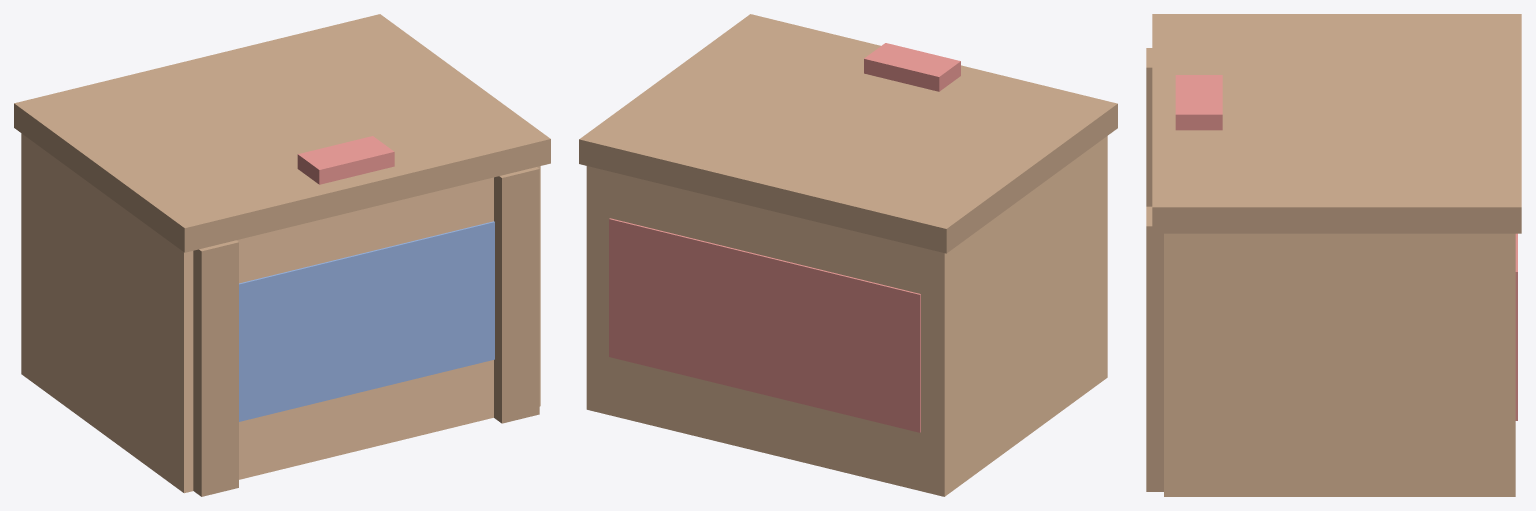
The model's file is toyBoxLidded.glb.
The picture shows the model from 3 angles, left to right: view 1: azimuth 30°, elevation 25°; view 2: azimuth 150°, elevation 25°; view 3: azimuth 270°, elevation 25°; orthographic projection. The views are drawn at different scales.
Parts seen in each view (by area): view 1: toyBoxLidded, anim:lid; view 2: toyBoxLidded, anim:lid; view 3: toyBoxLidded, anim:lid.
Boxes of the visible parts, bbox=[...] form: toyBoxLidded: bbox=[21, 133, 540, 496]; anim:lid: bbox=[14, 14, 550, 252]; toyBoxLidded: bbox=[586, 136, 1107, 496]; anim:lid: bbox=[579, 14, 1117, 253]; toyBoxLidded: bbox=[1146, 48, 1517, 496]; anim:lid: bbox=[1152, 14, 1521, 233].
Size of the model in its own units: 0.39 by 0.29 by 0.32.
